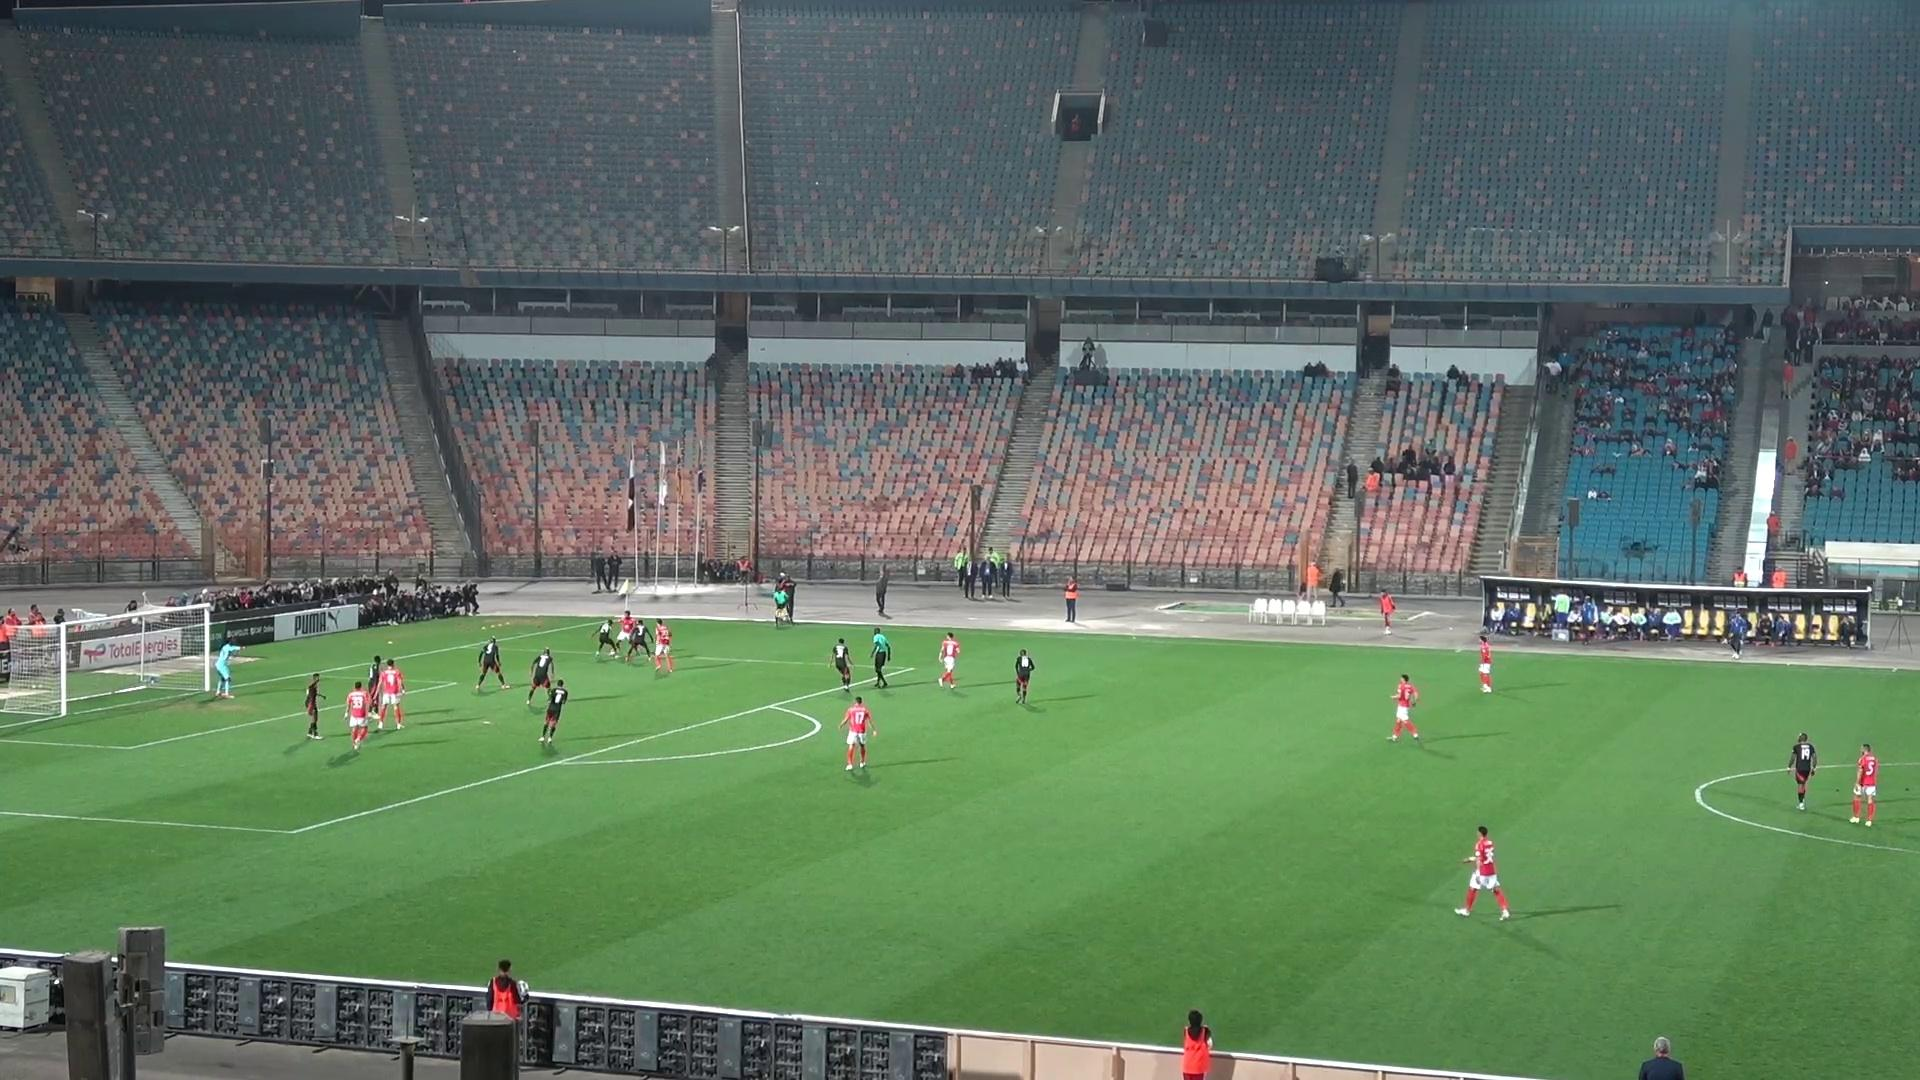GK2: (202, 641, 243, 698)
Refree: (870, 626, 891, 688), (771, 575, 795, 622)
Team1: (1455, 827, 1510, 918), (1847, 745, 1880, 825), (843, 698, 876, 774), (371, 659, 405, 729), (1389, 674, 1419, 738), (345, 680, 369, 753), (644, 618, 673, 673), (938, 632, 961, 688), (612, 608, 636, 661), (1477, 632, 1493, 694)
Team2: (527, 679, 568, 746), (1787, 732, 1818, 810), (476, 636, 509, 692), (302, 673, 326, 738), (526, 647, 553, 705), (591, 618, 626, 655), (1014, 647, 1035, 704), (831, 640, 855, 688), (365, 653, 384, 715), (626, 618, 651, 661)
